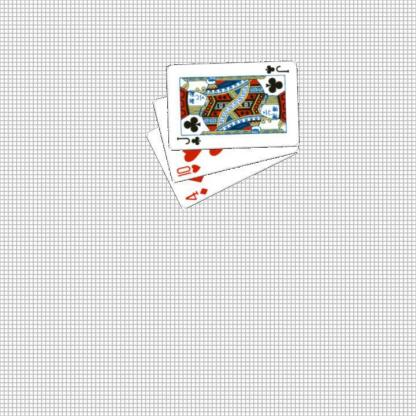10H: (173, 162, 202, 178)
4D: (183, 186, 209, 202)
JC: (174, 134, 202, 147), (262, 63, 290, 75)
